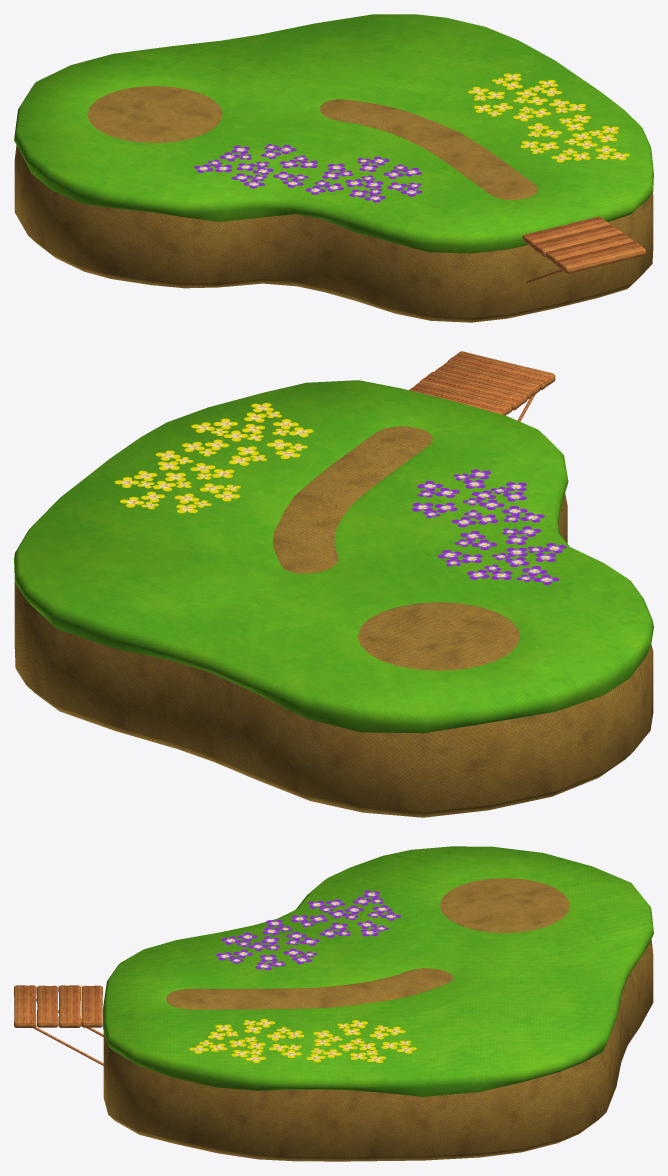
The model's file is Cloud3DStepA.fbx.
3 views of the same model, one above another, from view 1: azimuth 30°, elevation 25°; view 2: azimuth 150°, elevation 25°; view 3: azimuth 270°, elevation 25° (orthographic). The views are drawn at different scales.
Parts seen in each view (by area): view 1: Plane.003; view 2: Plane.003; view 3: Plane.003.
Boxes of the visible parts, x1,y1,x2,y2 form: Plane.003: [14, 14, 653, 322]; Plane.003: [14, 351, 653, 817]; Plane.003: [14, 846, 653, 1161].
Bounding box in the file's own units: 116569 × 20882 × 134519.
5 materials, 5 textured.
